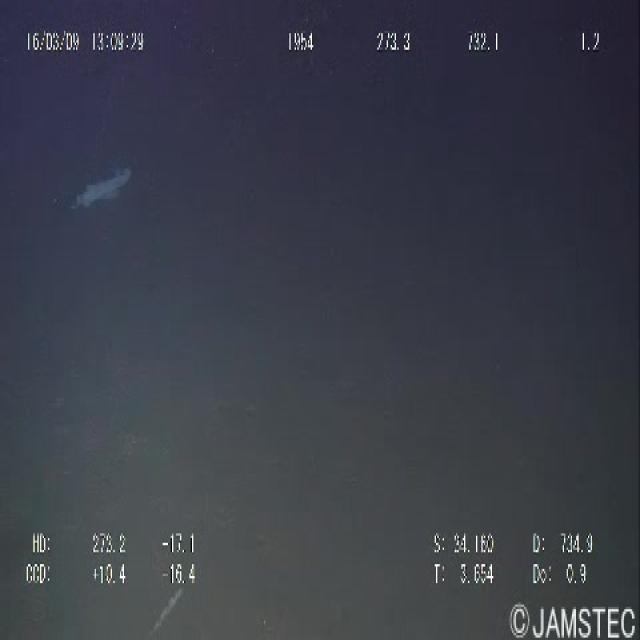plastic: (61, 156, 139, 230)
